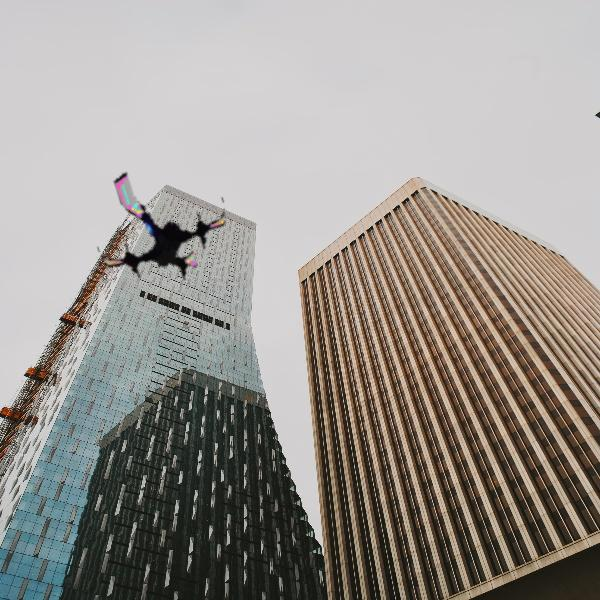drone: (92, 152, 234, 294)
